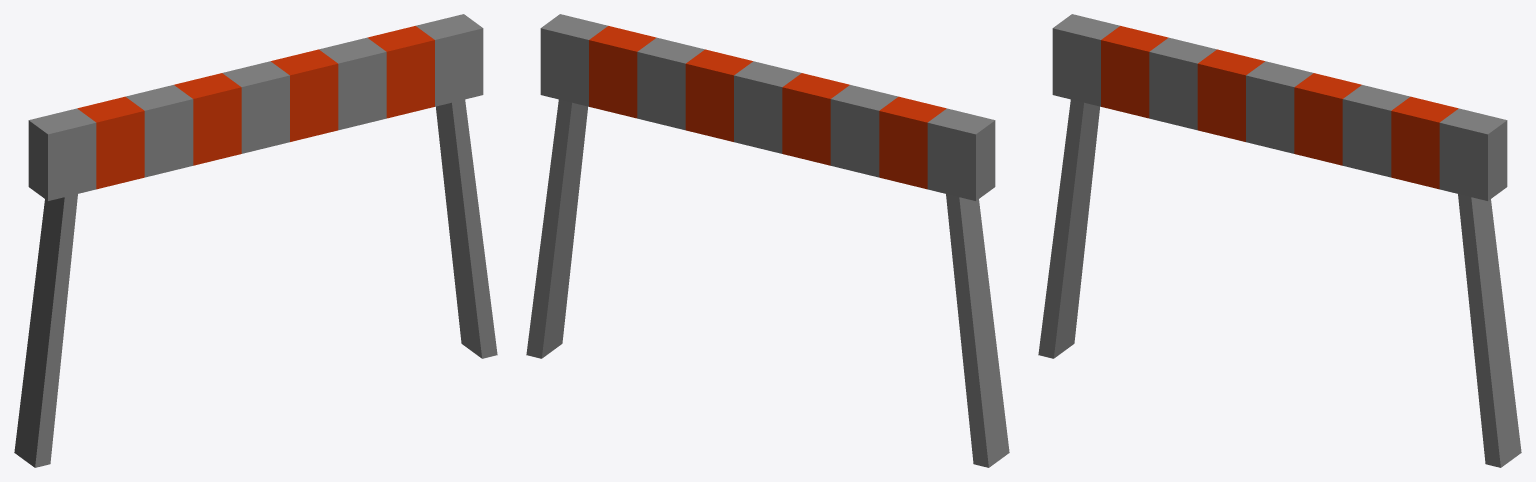
Rendered from high barrier.fbx.
3 views of the same model, side by side, from view 1: azimuth 30°, elevation 25°; view 2: azimuth 150°, elevation 25°; view 3: azimuth 330°, elevation 25° (orthographic).
Visible parts, largest first — view 1: Cube.003; view 2: Cube.003; view 3: Cube.003.
Boxes of the visible parts, left/top/right/bottom form: Cube.003: left=14, top=14, right=497, bottom=467; Cube.003: left=526, top=14, right=1009, bottom=467; Cube.003: left=1038, top=14, right=1521, bottom=467.
Bounding box in the file's own units: 184 × 125 × 14.24.
